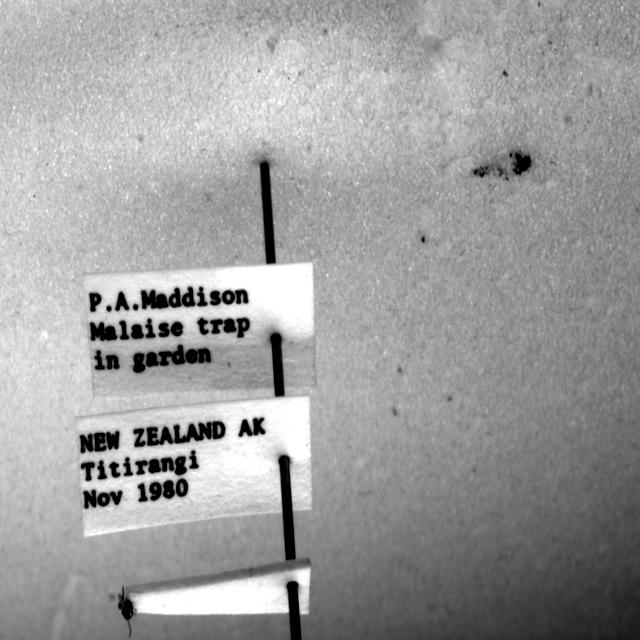typed_label: (76, 396, 311, 536), (84, 262, 316, 396)
